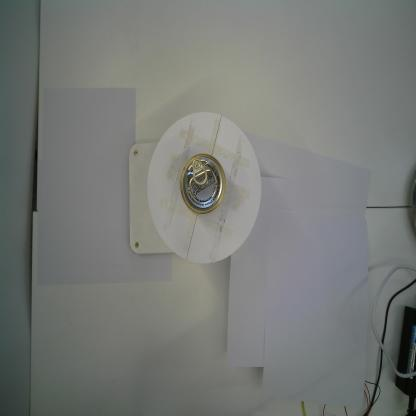Canned Food: (179, 152, 228, 216)
